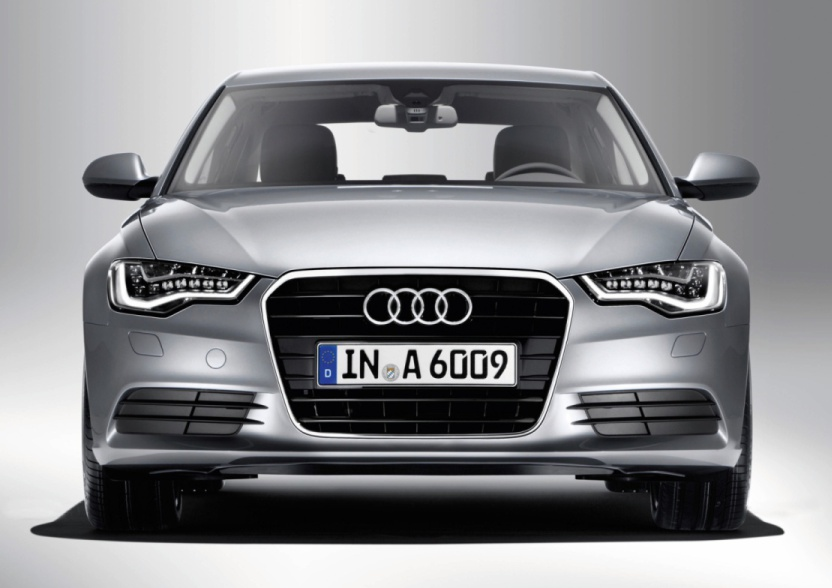audi: (353, 283, 482, 331)
